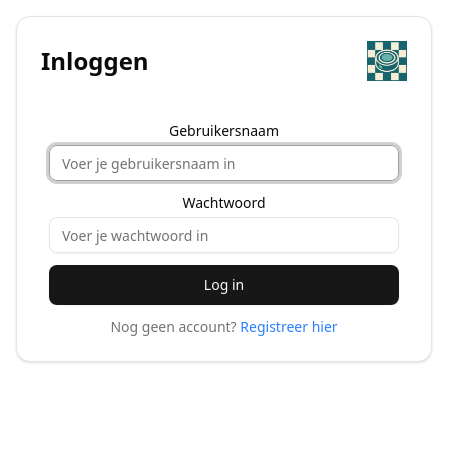
Authenticatie › navigeert naar /register via de registratielink
Click the link to "/register" at (289, 327), box x1=240 y1=317 x2=337 y2=336
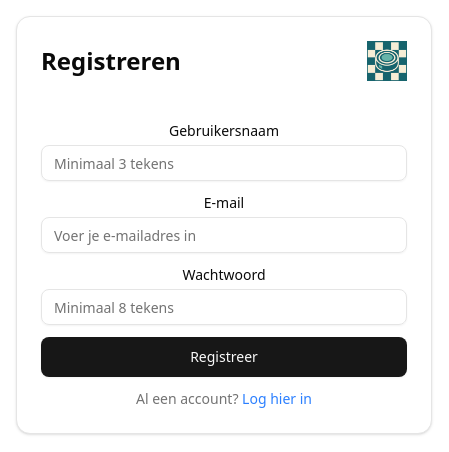
Expected: the heading "Registreren" is shown, x1=41 y1=45 x2=181 y2=77
